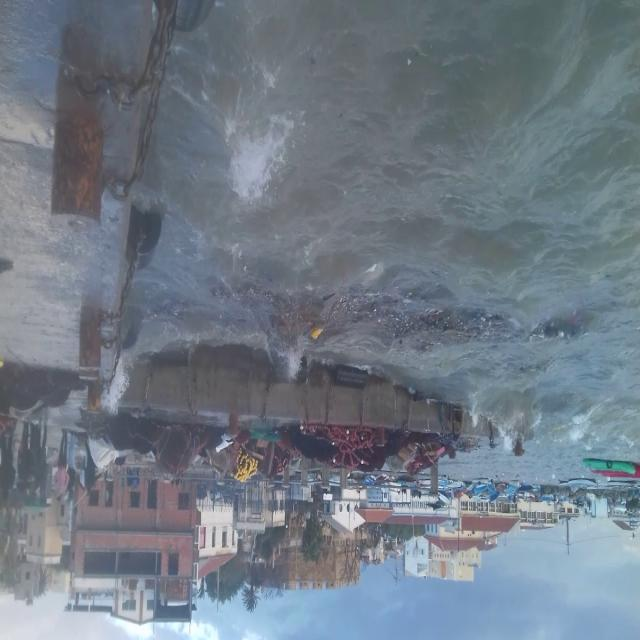Undefined trash: (201, 262, 610, 392)
